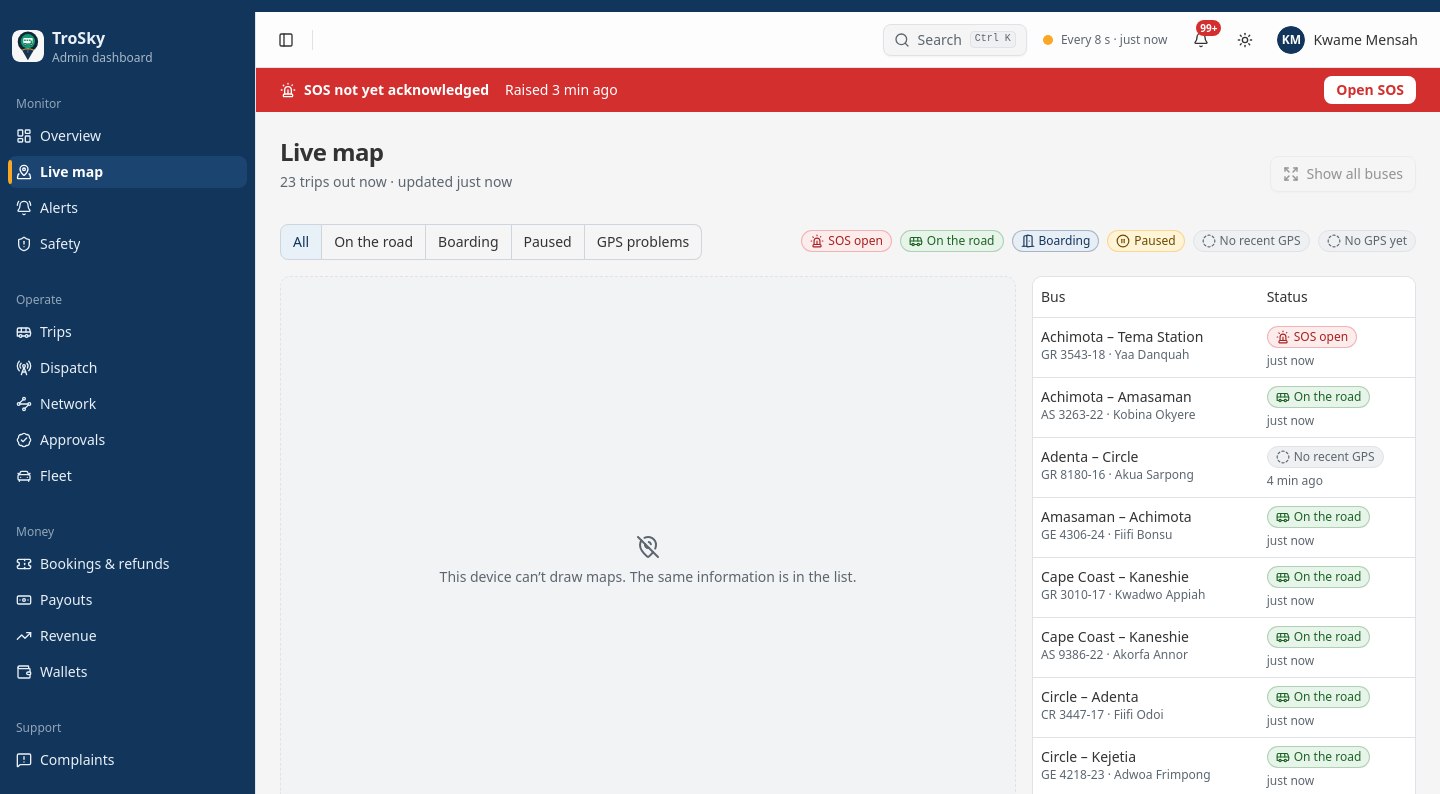
Test: Live map › filters to the buses asked for
This screenshot has width=1440, height=794.
Click the radio button labelled "Paused". click: x=548, y=242
box: [512, 224, 585, 260]
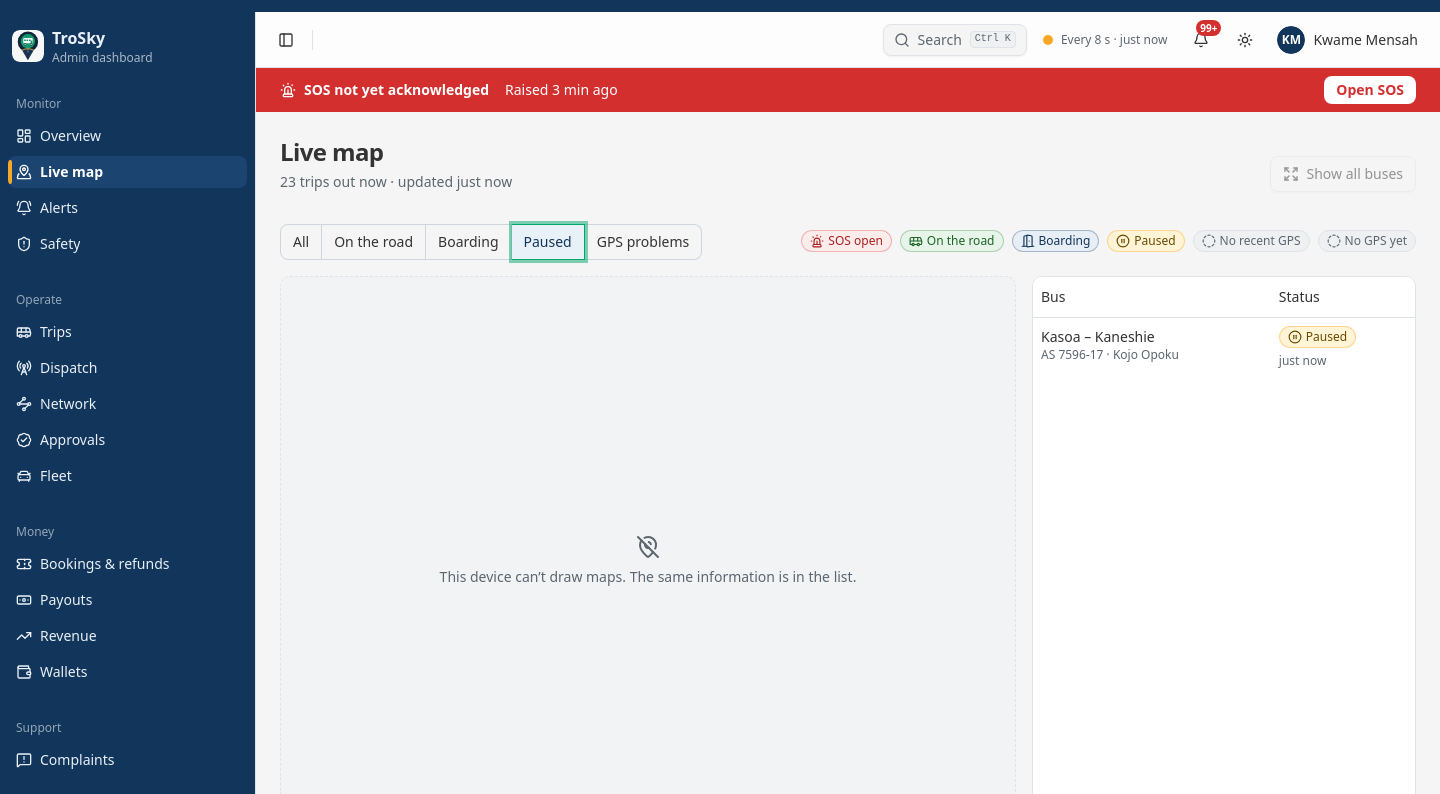
Now the row "Kasoa – Kaneshie AS 7596-17 · Kojo Opoku Paused just now" is shown, box [1033, 318, 1415, 376]
